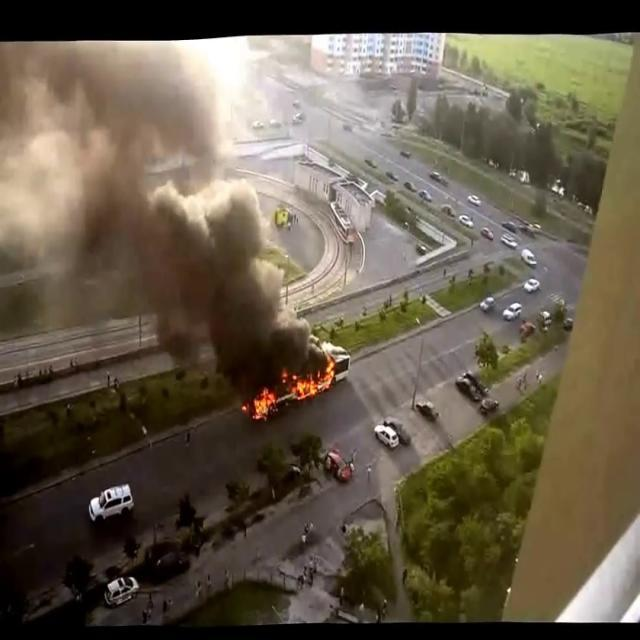Fire: (248, 358, 336, 416)
Smoke: (0, 38, 308, 370)
